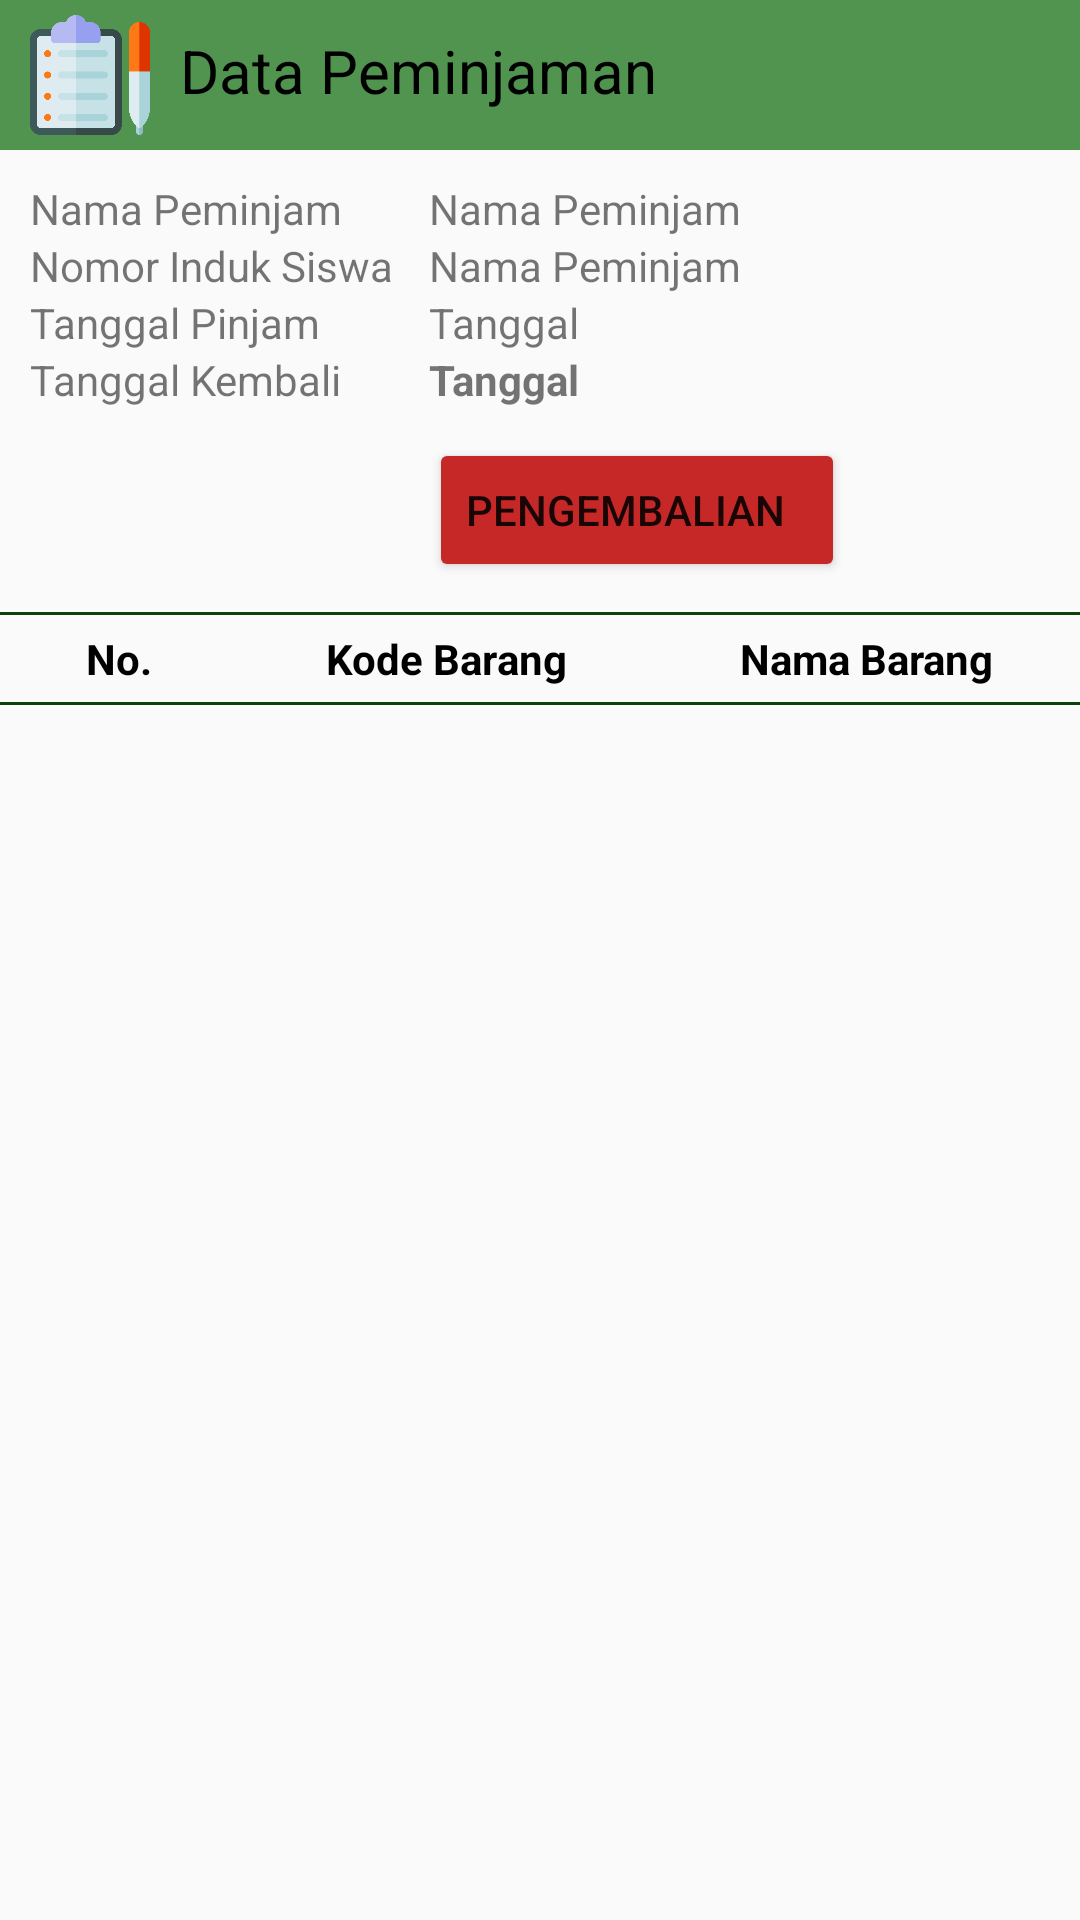

Named icons in this screenshot (1080px x 1920px) and their bounding boxes, (x1, y1, x2, y2):
clipboard: (30, 15, 150, 135)
